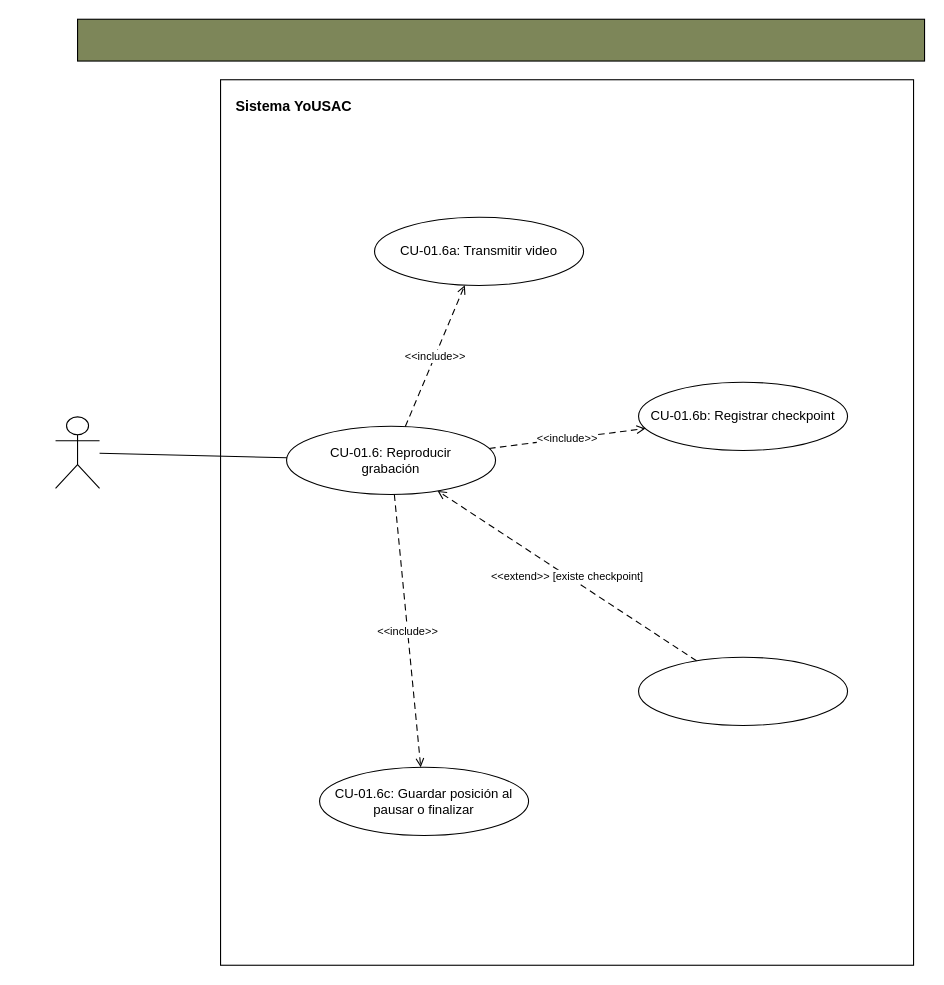
The diagram is 944 pixels wide and 985 high, and some of its shapes have lost their labels. Each missing label, with the centre of its shape:
CU-01.7: Reanudar grabación: the point at 742,690
Plataforma YoUSAC — CU-01.6 — Reproducir grabación: the point at 500,39
Usuario institucional: the point at 77,452
